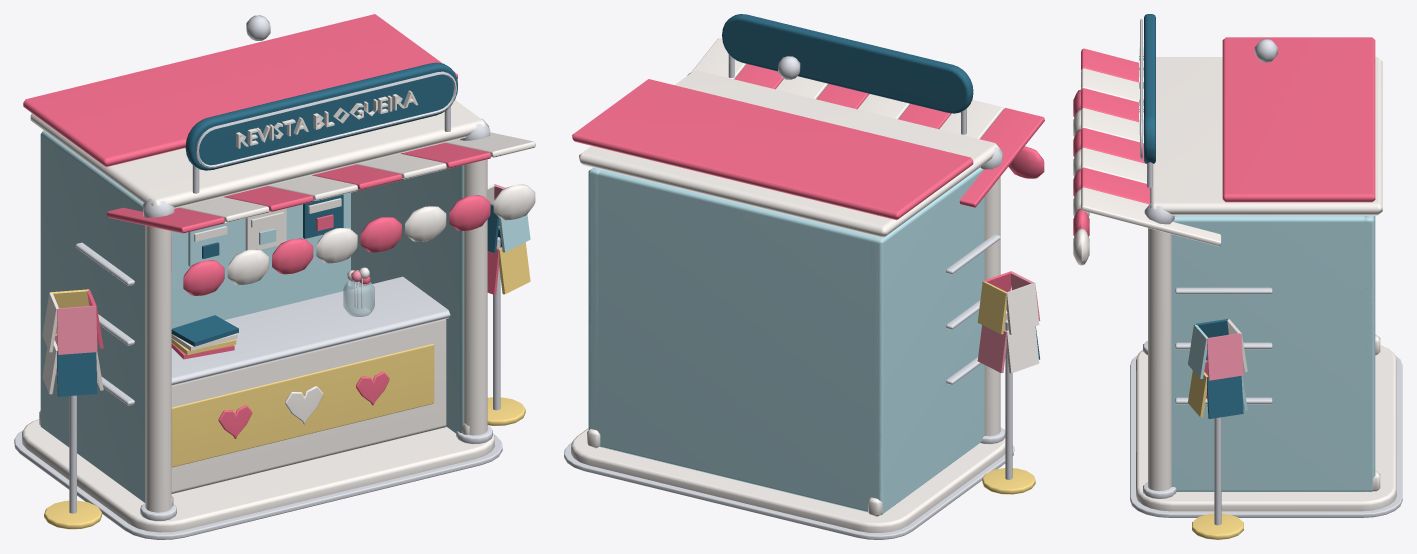
The model's file is magazine_kiosk.glb.
3 renders of one model, left to right at view 1: azimuth 30°, elevation 25°; view 2: azimuth 150°, elevation 25°; view 3: azimuth 270°, elevation 25°, orthographic. The views are drawn at different scales.
Visible parts, largest first — view 1: magazine_kiosk; view 2: magazine_kiosk; view 3: magazine_kiosk.
Part boxes in pixels (x1,y1,x2,y2): magazine_kiosk: [14, 14, 535, 539]; magazine_kiosk: [564, 14, 1044, 539]; magazine_kiosk: [1073, 14, 1402, 539].
Bounding box in the file's own units: 4.2 × 3.6 × 2.72.
